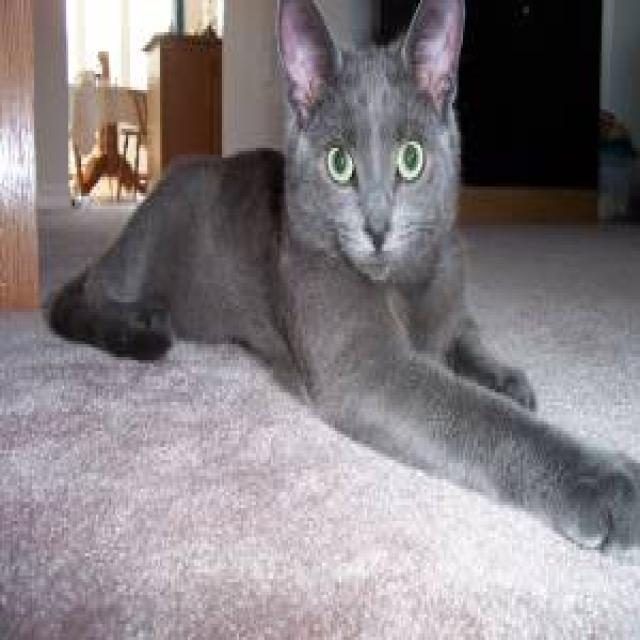Russian_Blue: (271, 0, 463, 288)
